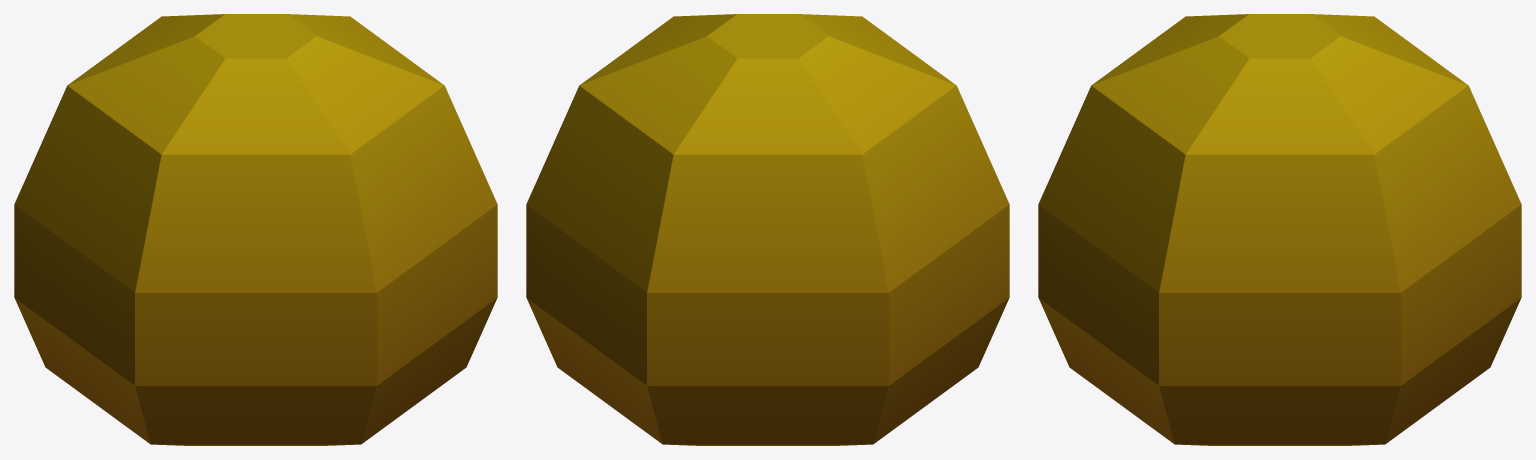
Rendered from bush 2.fbx.
3 views of the same model, side by side, from view 1: azimuth 30°, elevation 25°; view 2: azimuth 150°, elevation 25°; view 3: azimuth 270°, elevation 25° (orthographic).
Visible parts, largest first — view 1: bush_2; view 2: bush_2; view 3: bush_2.
Part boxes in pixels (bbox=[...]): bush_2: bbox=[14, 14, 497, 445]; bush_2: bbox=[526, 14, 1009, 445]; bush_2: bbox=[1038, 14, 1521, 445].
Bounding box in the file's own units: 132 × 126 × 153.
1 material, 1 textured.
